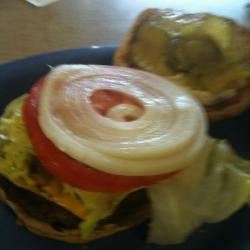burger: (3, 78, 201, 235)
